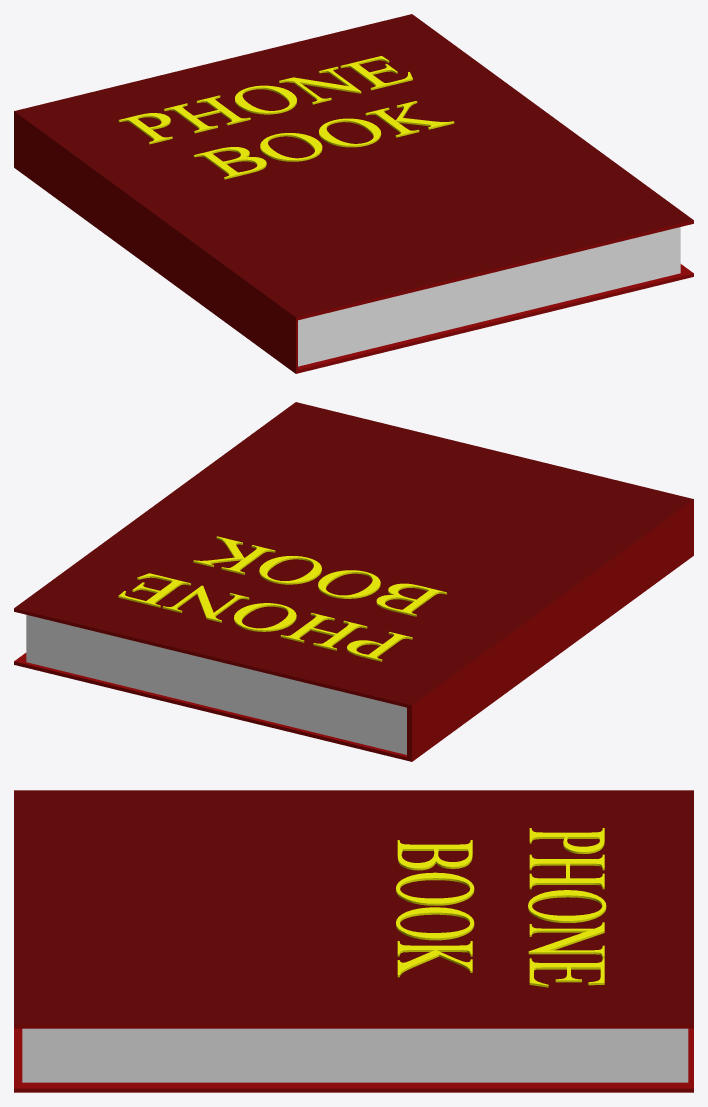
The model's file is Phone Book closed.fbx.
The picture shows the model from 3 angles, top to bottom: view 1: azimuth 30°, elevation 25°; view 2: azimuth 150°, elevation 25°; view 3: azimuth 270°, elevation 25°; orthographic projection. The views are drawn at different scales.
Visible parts, largest first — view 1: Group1, PHONE___BOOK_1_1; view 2: Group1, PHONE___BOOK_1_1; view 3: Group1, PHONE___BOOK_1_1.
Boxes of the visible parts, x1,y1,x2,y2 form: Group1: [14, 14, 693, 373]; PHONE___BOOK_1_1: [118, 56, 454, 179]; Group1: [14, 402, 693, 761]; PHONE___BOOK_1_1: [118, 536, 446, 661]; Group1: [14, 790, 693, 1092]; PHONE___BOOK_1_1: [396, 828, 606, 987].
Size of the model in its own units: 12.44 by 1.74 by 15.25.
